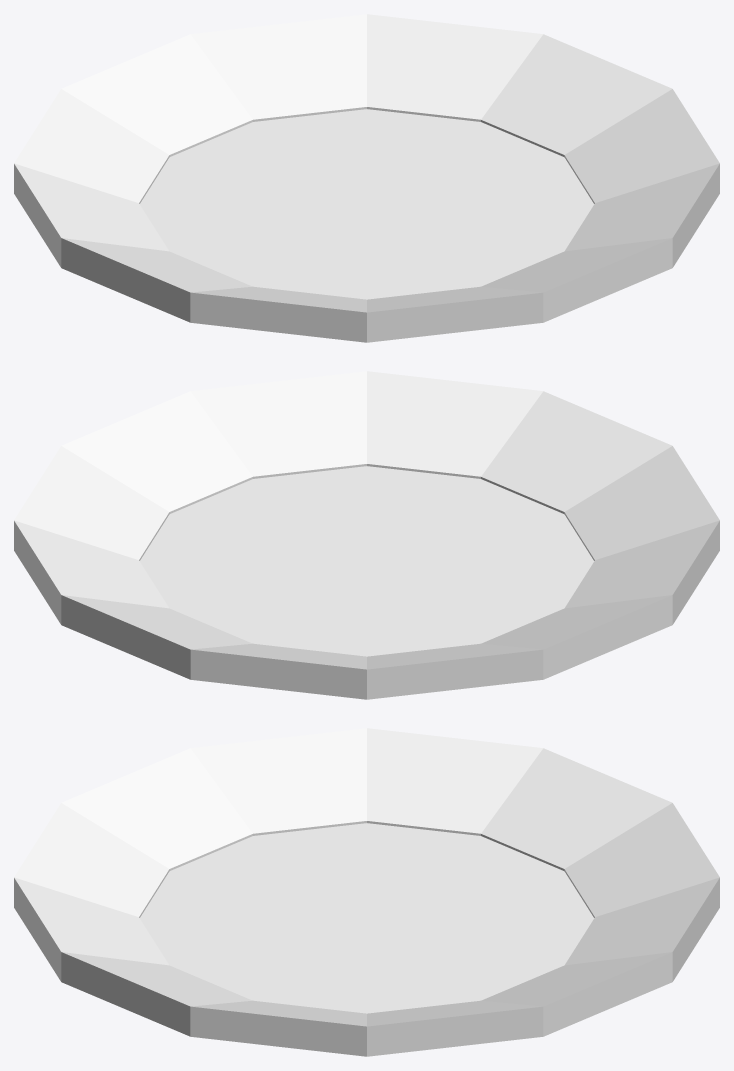
File: Plate_01.fbx
The picture shows the model from 3 angles, top to bottom: view 1: azimuth 30°, elevation 25°; view 2: azimuth 150°, elevation 25°; view 3: azimuth 270°, elevation 25°; orthographic projection.
Parts seen in each view (by area): view 1: Plate_01; view 2: Plate_01; view 3: Plate_01.
Boxes of the visible parts, bbox=[...] form: Plate_01: bbox=[14, 14, 719, 342]; Plate_01: bbox=[14, 371, 719, 699]; Plate_01: bbox=[14, 728, 719, 1056].
Size of the model in its own units: 20.73 by 2.53 by 20.73.
